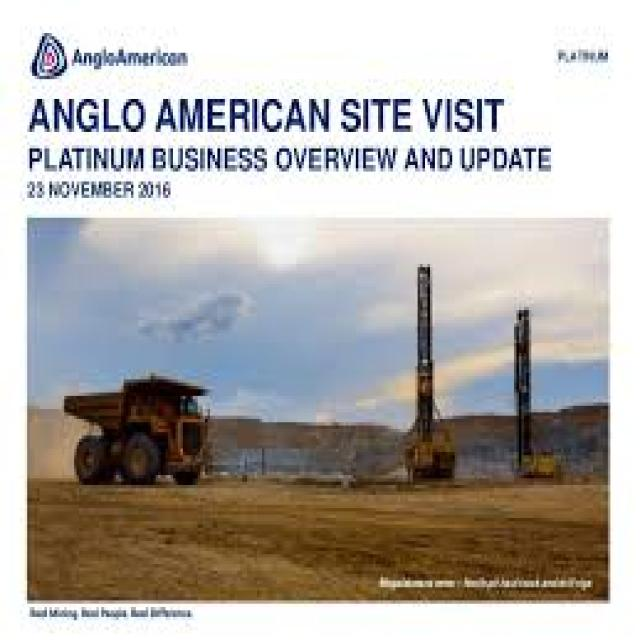dump_truck: (62, 340, 245, 505)
